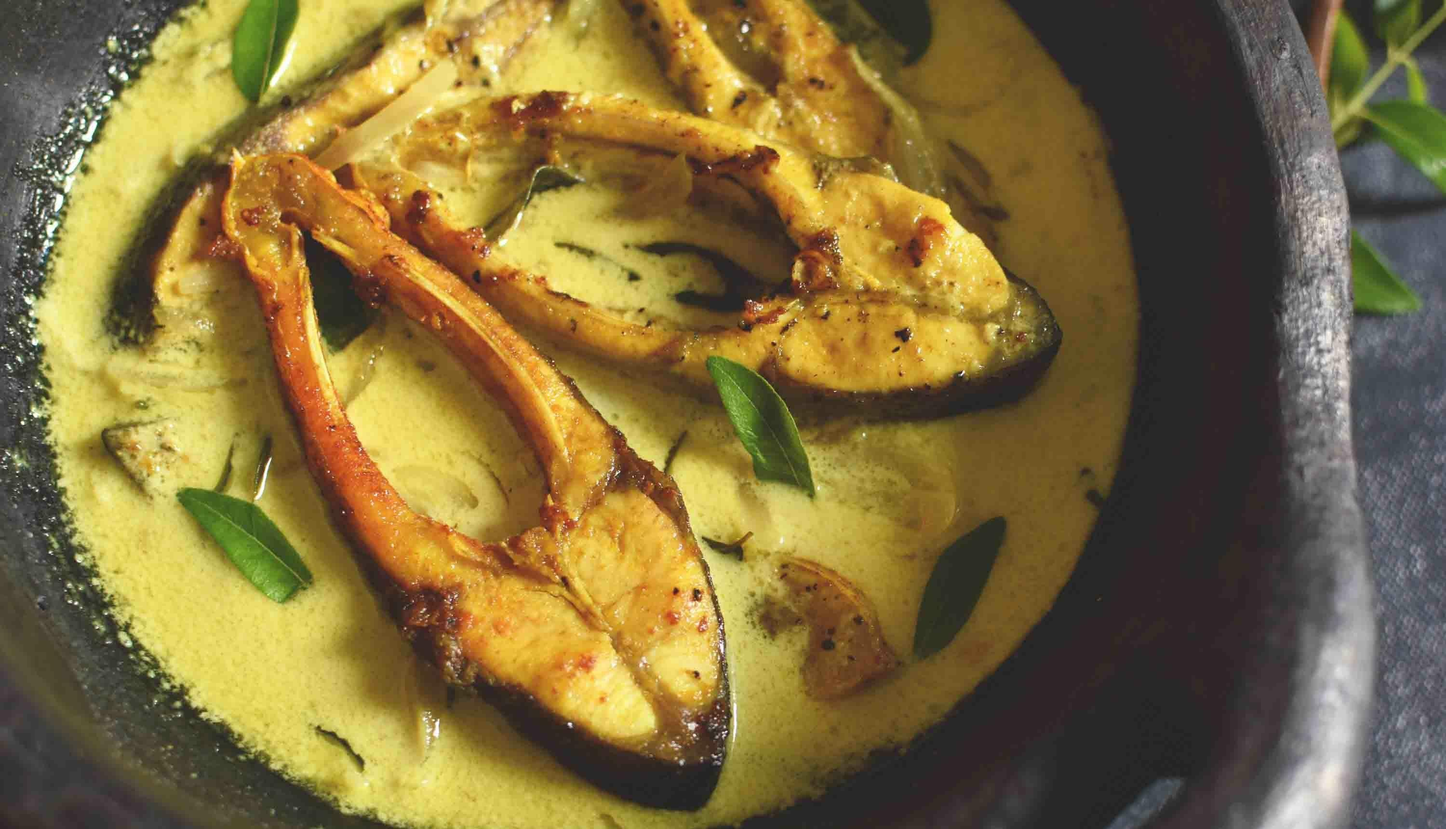FishCurry: (31, 0, 1139, 829)
